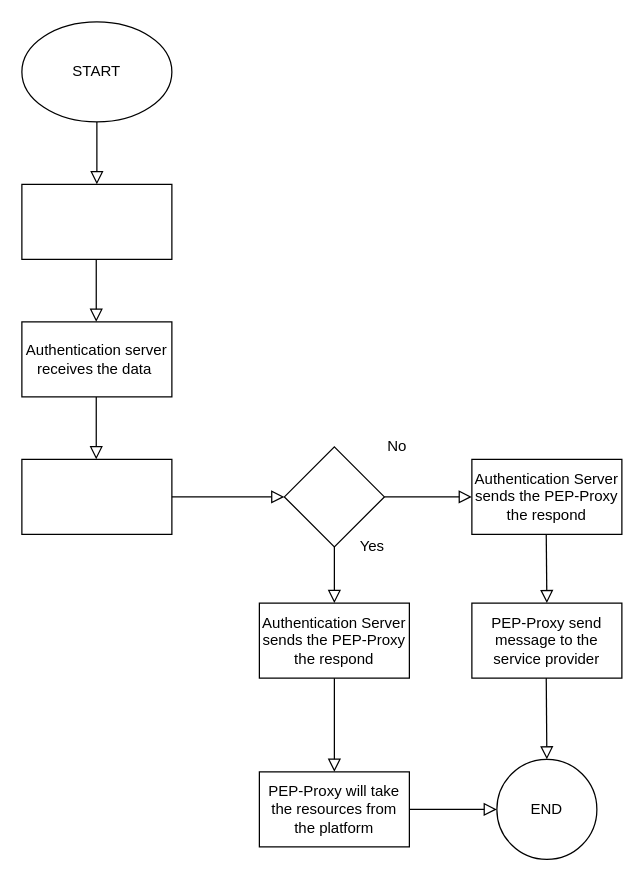
This 644x881 diagram has some shape labels left out. Here are the shapes that lost their labels. From the top down, the box of each, then its label:
(21, 183, 172, 259): PEP-Proxy sends the role and info about the user
(21, 458, 172, 534): Authentication server checks if the user has permission
(283, 446, 384, 547): User has permission?
